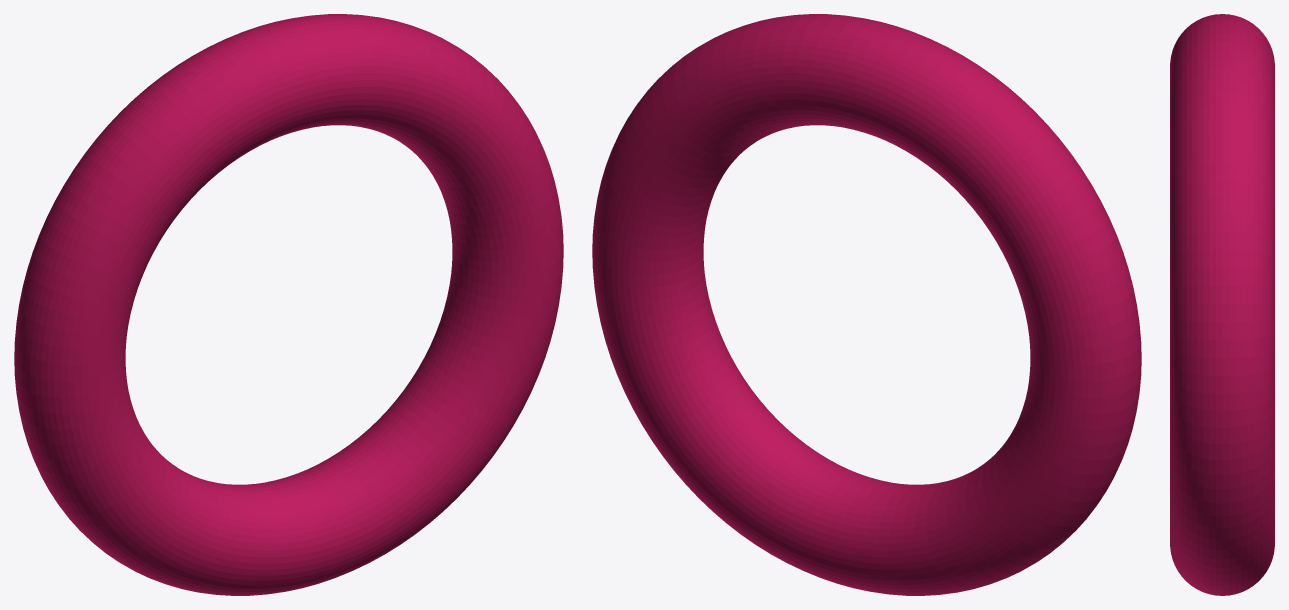
3 renders of one model, left to right at view 1: azimuth 30°, elevation 25°; view 2: azimuth 150°, elevation 25°; view 3: azimuth 270°, elevation 25°, orthographic. The views are drawn at different scales.
Parts seen in each view (by area): view 1: world; view 2: world; view 3: world.
Boxes of the visible parts, x1,y1,x2,y2 form: world: [14, 14, 563, 595]; world: [592, 14, 1141, 595]; world: [1170, 14, 1274, 595].
Bounding box in the file's own units: 24.4 × 24.4 × 4.39.
